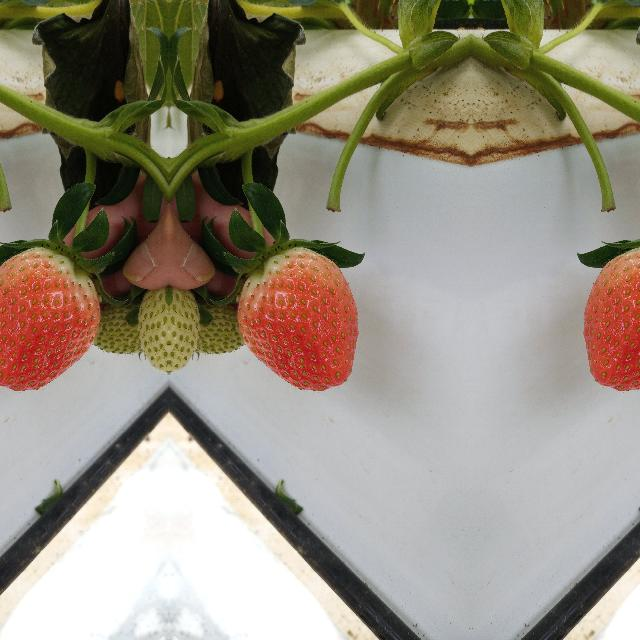Health_100: (234, 246, 360, 392), (0, 246, 101, 391), (581, 246, 640, 391)
